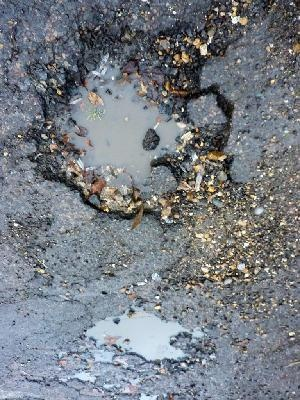pothole: (24, 13, 246, 218), (78, 308, 216, 372)
